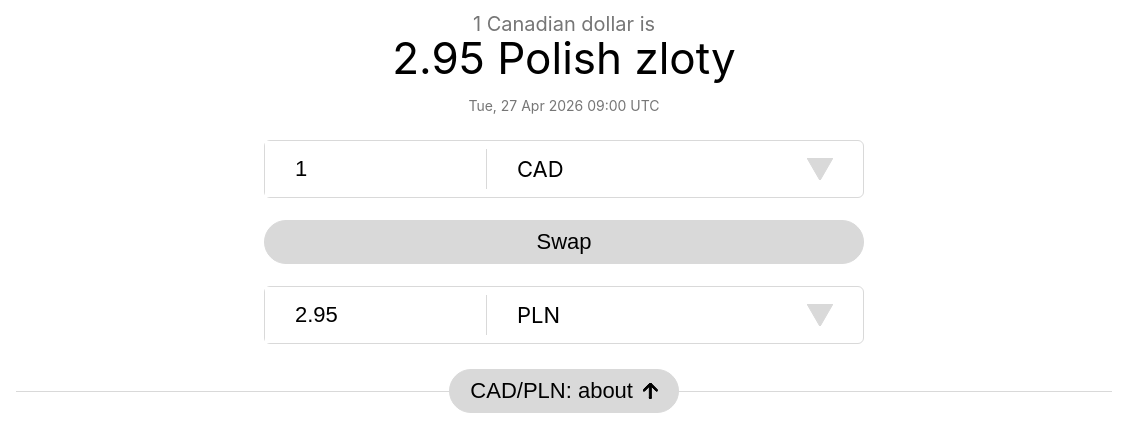
Base (converter integration) › swaps the pair and rerenders the result
Step 1. Click the button "Swap" → (564, 242), box top-left (264, 220), bottom-right (864, 264)
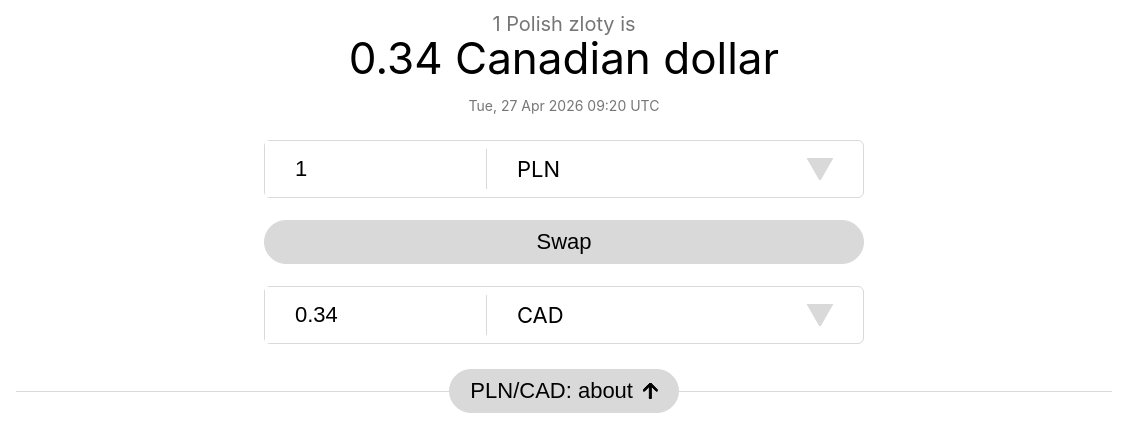
Expected: the number field with test id "result-input" holds "0.34", top-left (265, 287), bottom-right (486, 343)
